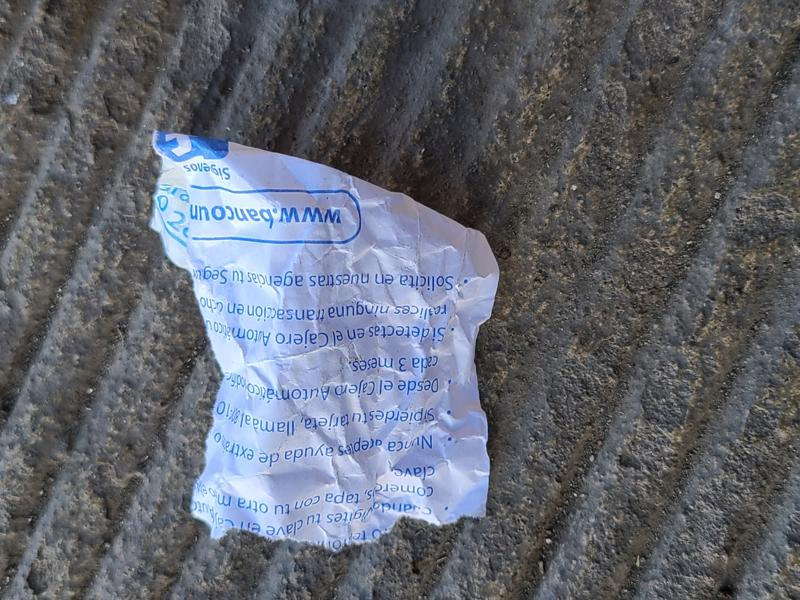papel: (149, 132, 500, 554)
